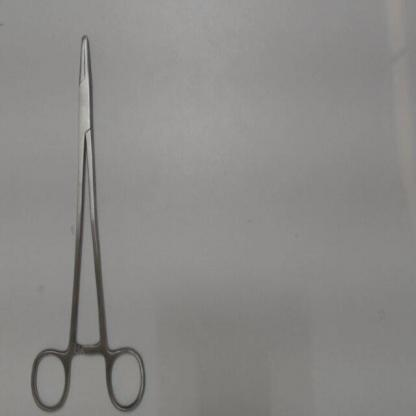8 Mayo Needle Holder: (24, 24, 152, 415)
